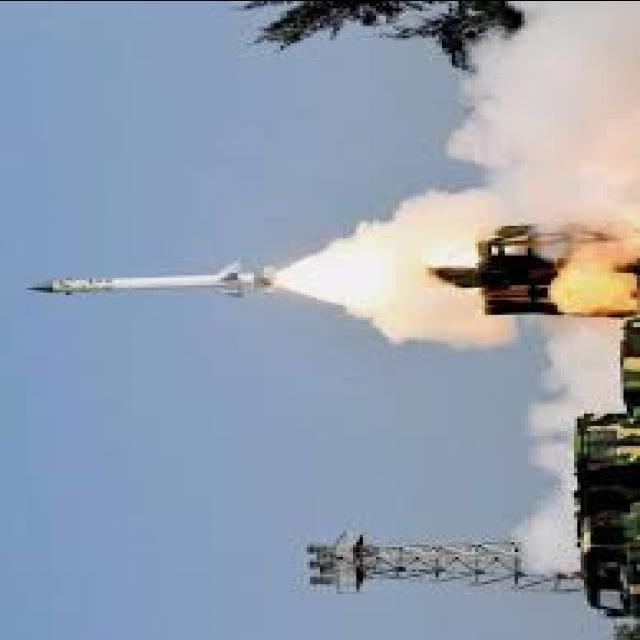missile: (27, 253, 270, 298)
